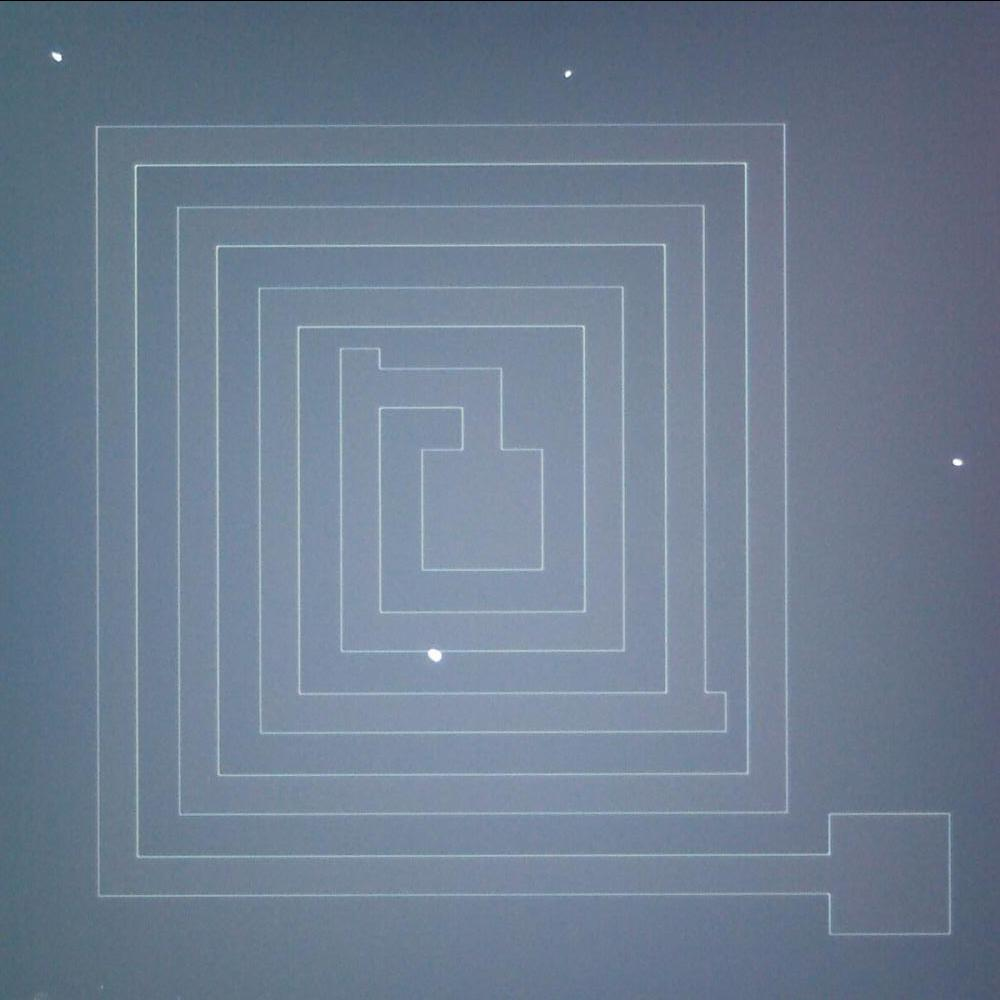budge circuit: (690, 674, 734, 742), (328, 339, 391, 376)
dot: (556, 60, 583, 84)
spot: (416, 634, 454, 671), (40, 40, 72, 70), (942, 448, 972, 477)
